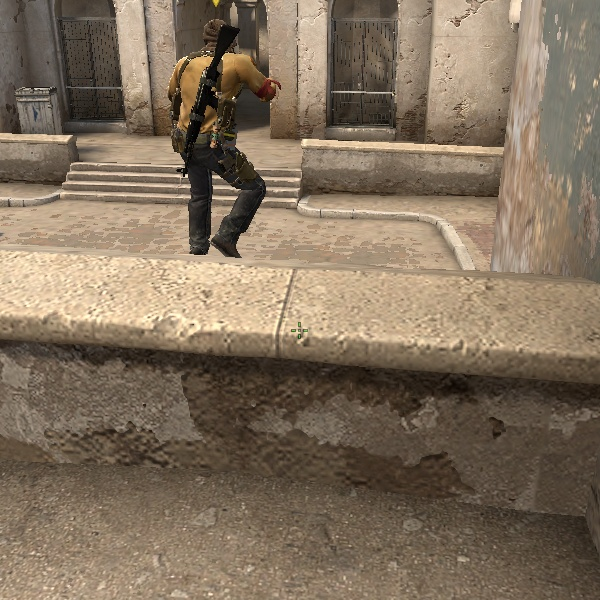t_body: (157, 8, 298, 265)
t_head: (191, 13, 245, 67)
